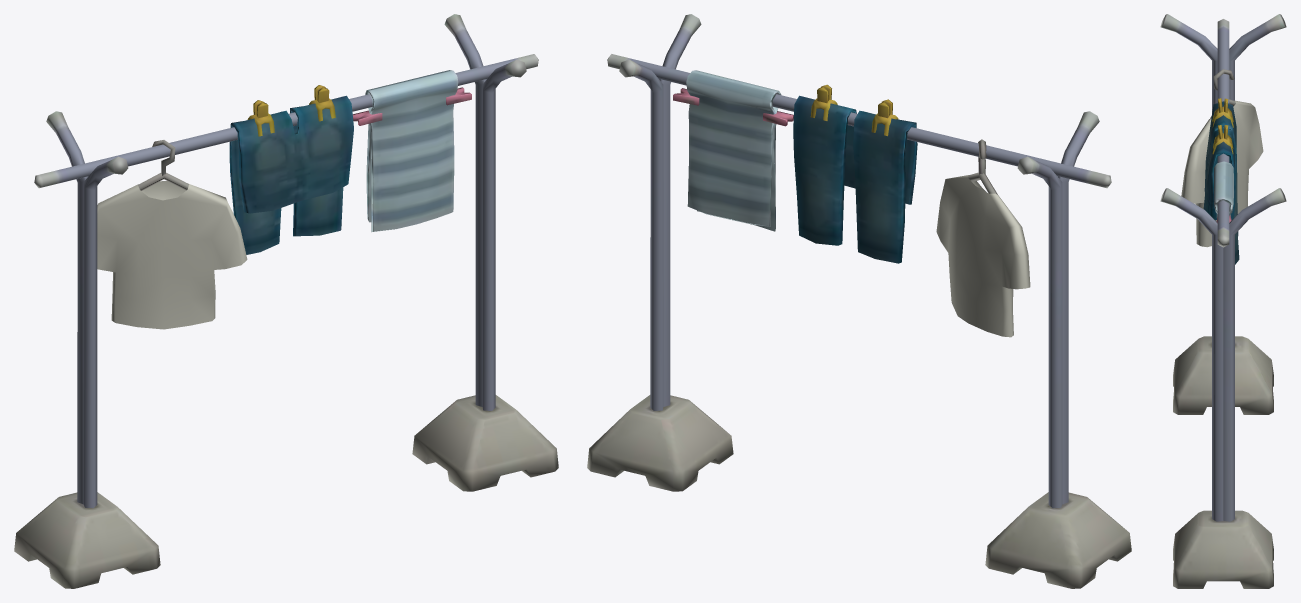
3 views of the same model, side by side, from view 1: azimuth 30°, elevation 25°; view 2: azimuth 150°, elevation 25°; view 3: azimuth 270°, elevation 25° (orthographic). The views are drawn at different scales.
Bounding box in the file's own units: 19.69 × 15.83 × 4.77.
Materials: 2 (2 with a texture image).
